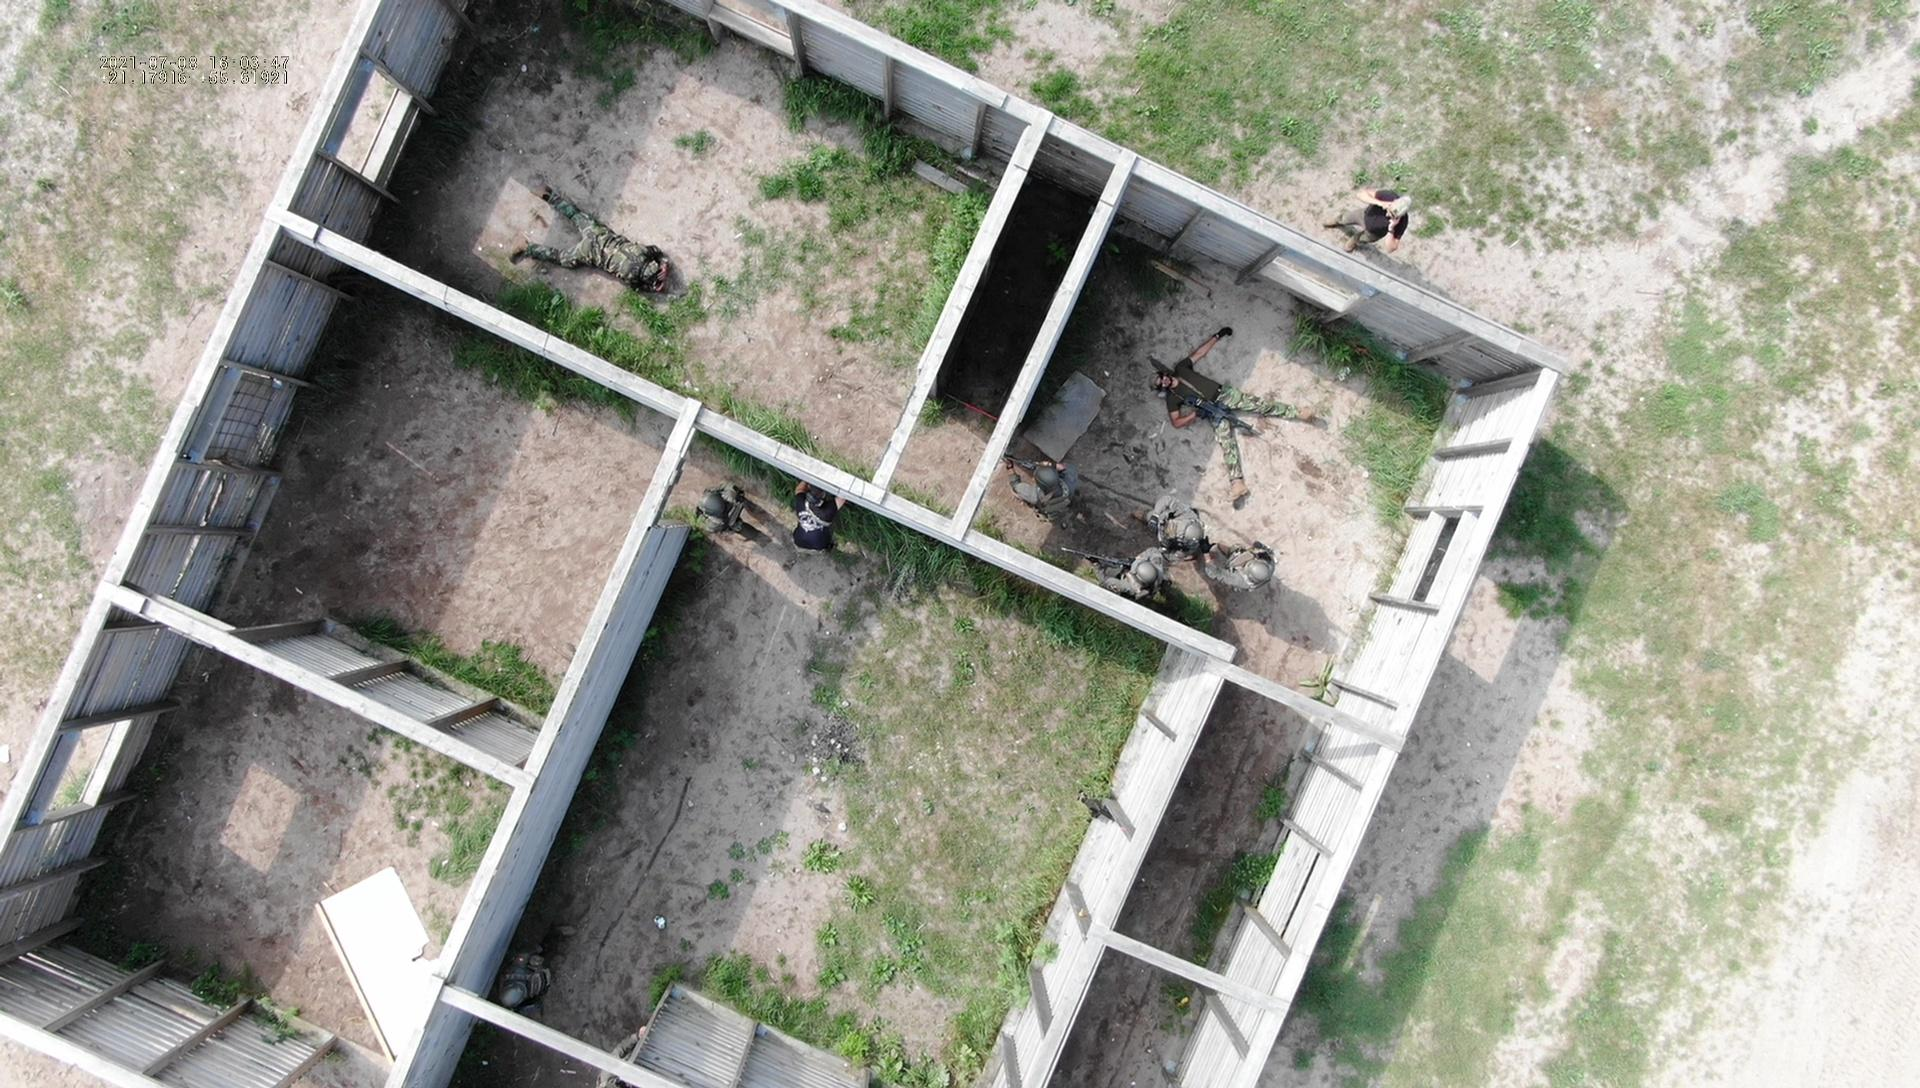Soldier: (1143, 313, 1327, 499), (502, 177, 698, 320), (996, 443, 1081, 521), (1201, 528, 1286, 601), (1077, 533, 1178, 595), (1143, 487, 1218, 560), (676, 481, 754, 543), (495, 952, 556, 1019)
